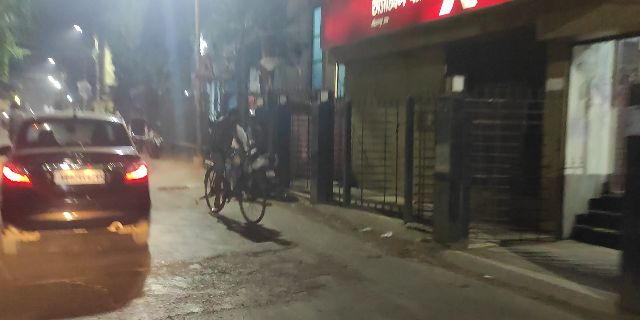Car: (9, 115, 152, 254)
Cycle: (198, 108, 273, 230)
